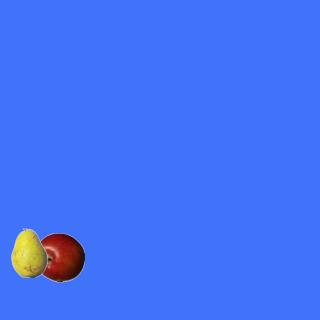Apple Braeburn: (34, 232, 84, 282)
Pear Monster: (4, 227, 54, 277)
